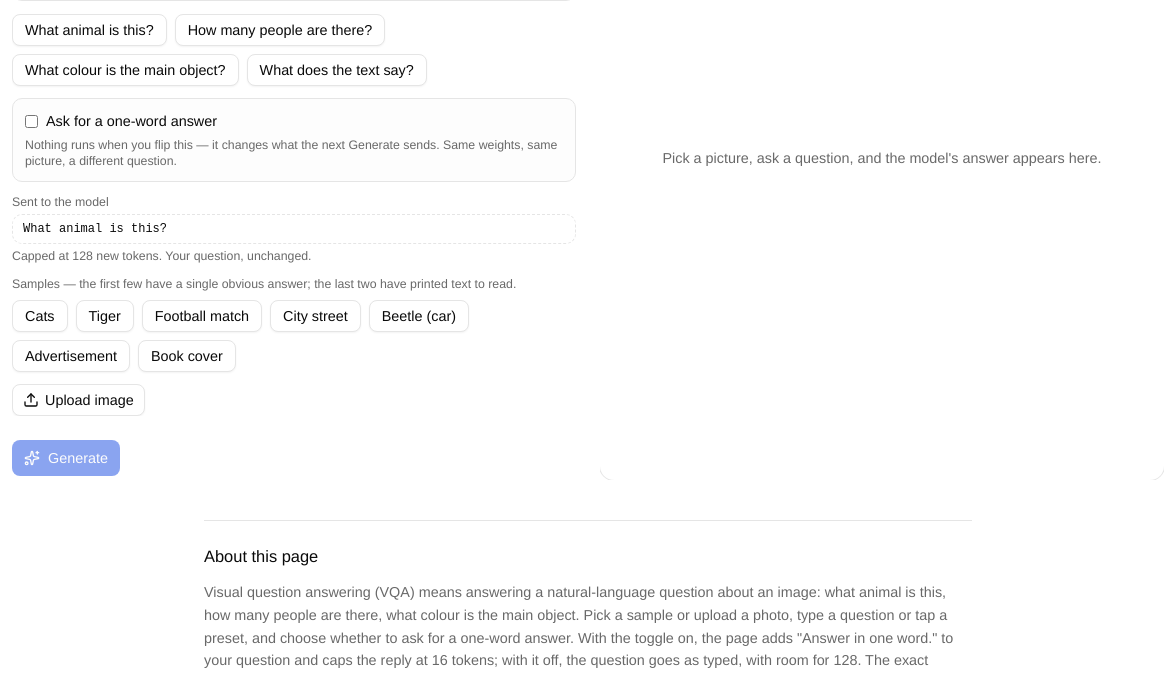
Test case: VisualQuestionAnsweringPage — nothing runs until asked › editing the question and tapping a preset run nothing
The image size is (1164, 675).
(page scrolled)
Click the button "Tiger" at (105, 316), box [76, 300, 134, 332]
(page scrolled)
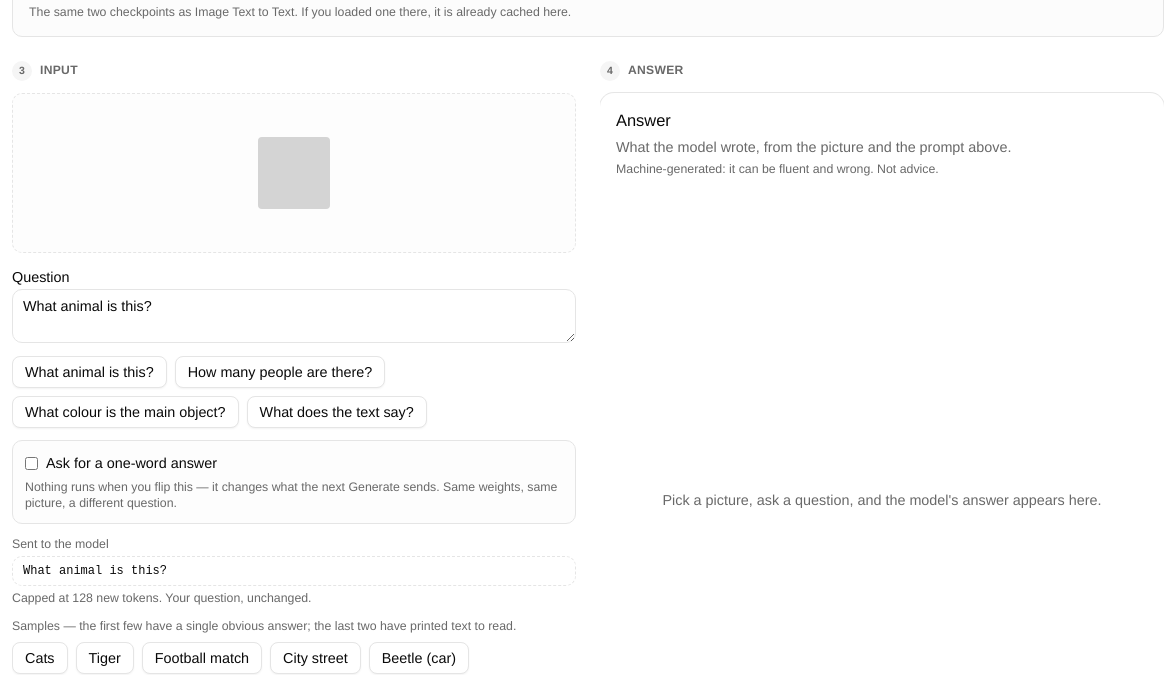
Replace the text in the text box with test id "question-input" with "What colour is it?" at (294, 316), box [12, 289, 576, 343]
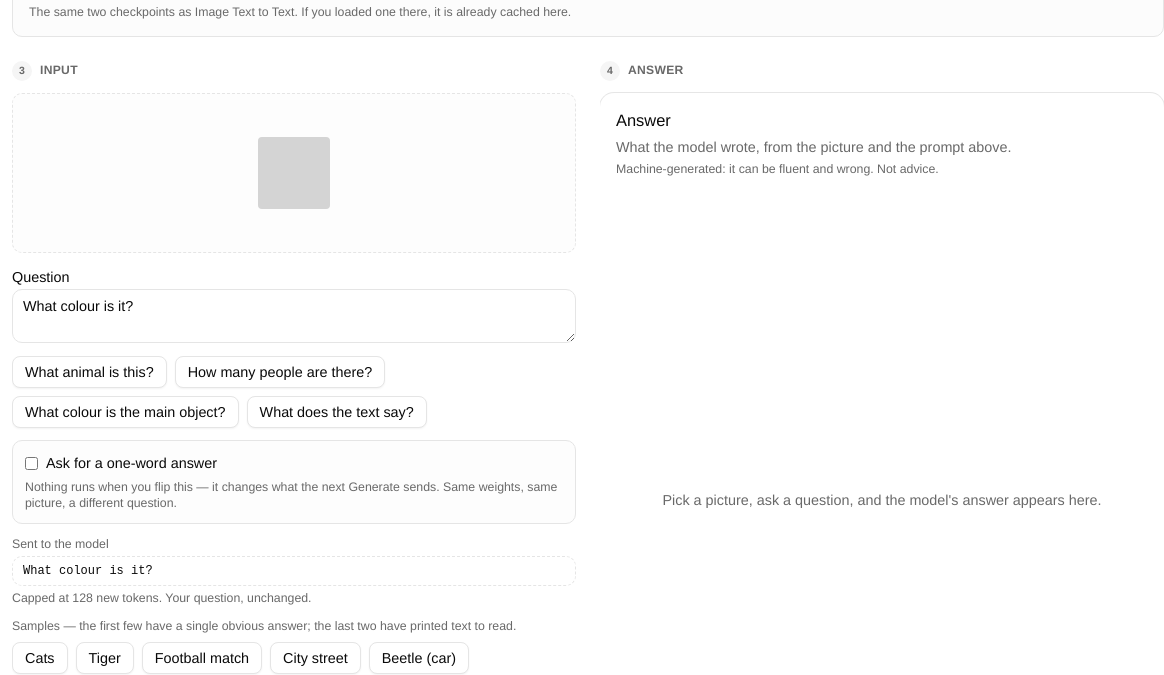
Click the button "How many people are there?" at (280, 372), box [175, 356, 385, 388]
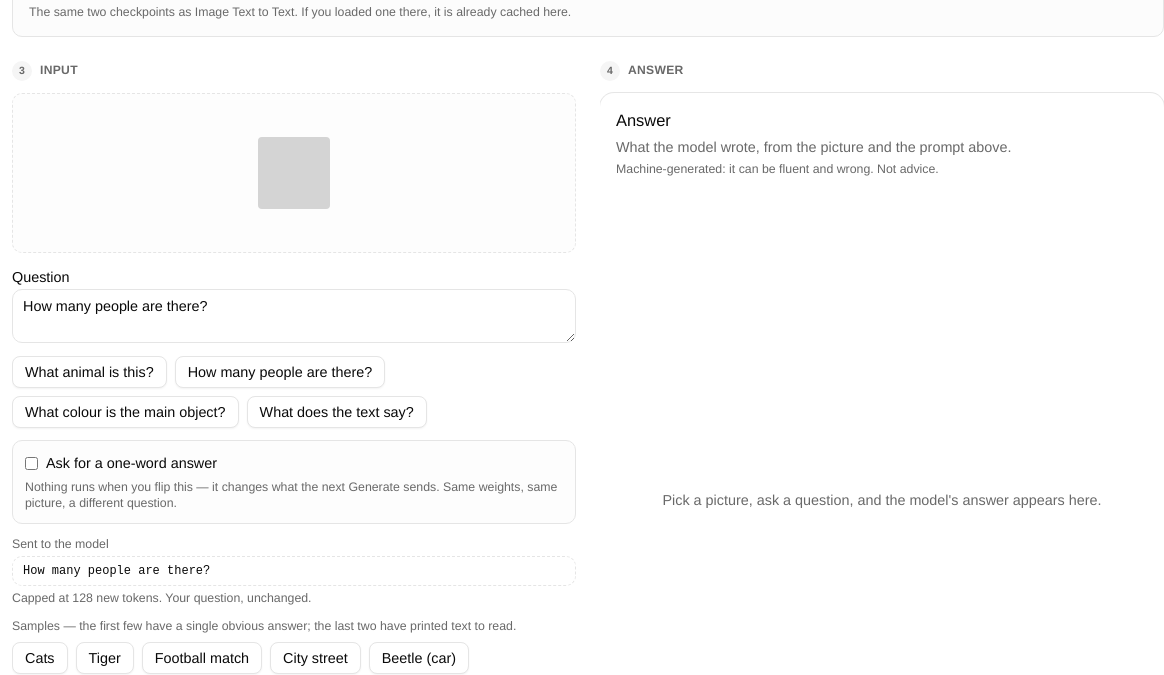
Now the text box with test id "question-input" holds "How many people are there?", box [12, 289, 576, 343]
